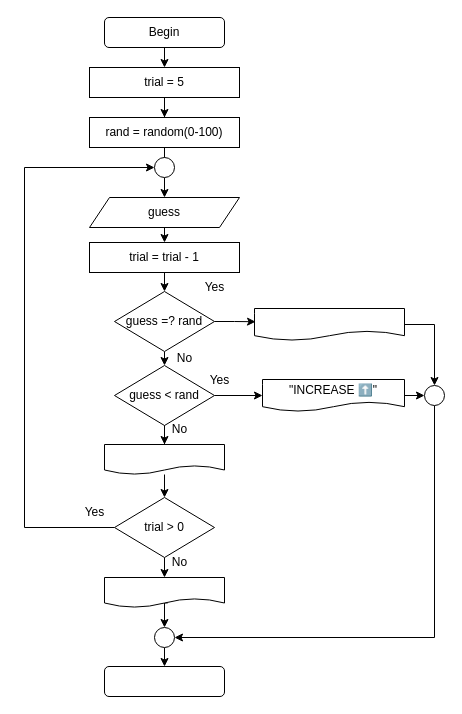
Some shapes in this 462 by 714 pixel diagram are drawn without their labels. Each missing label, with the centre of its shape:
"Congrats, you win 🥳": the point at 329,324
"DECREASE ⬇️": the point at 164,459
"Sorry, you lost 😔": the point at 164,592
Stop: the point at 164,681
